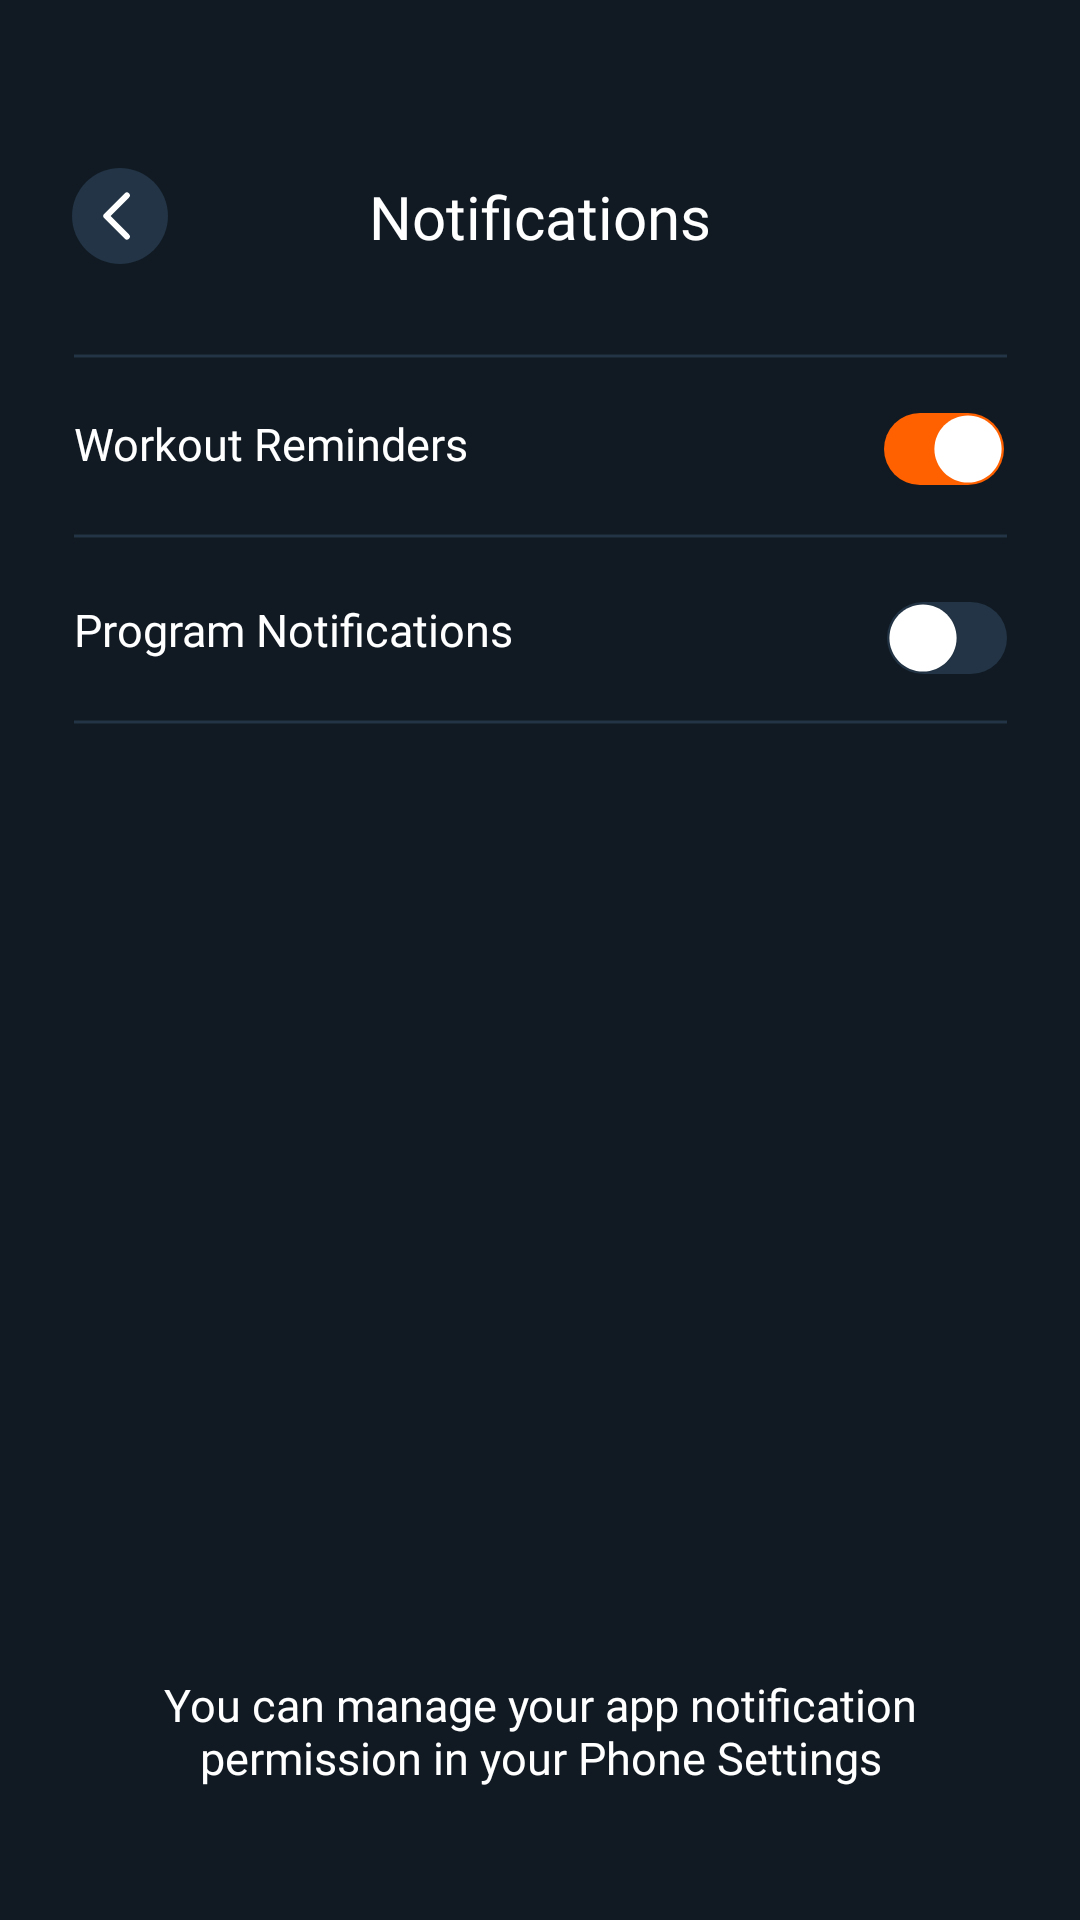

Point at icon controls on the screen. Image size 1080px×1920px, points as (x=x, y=y).
profile back: (x=120, y=216)
switch off: (x=947, y=638)
switch on: (x=944, y=449)
